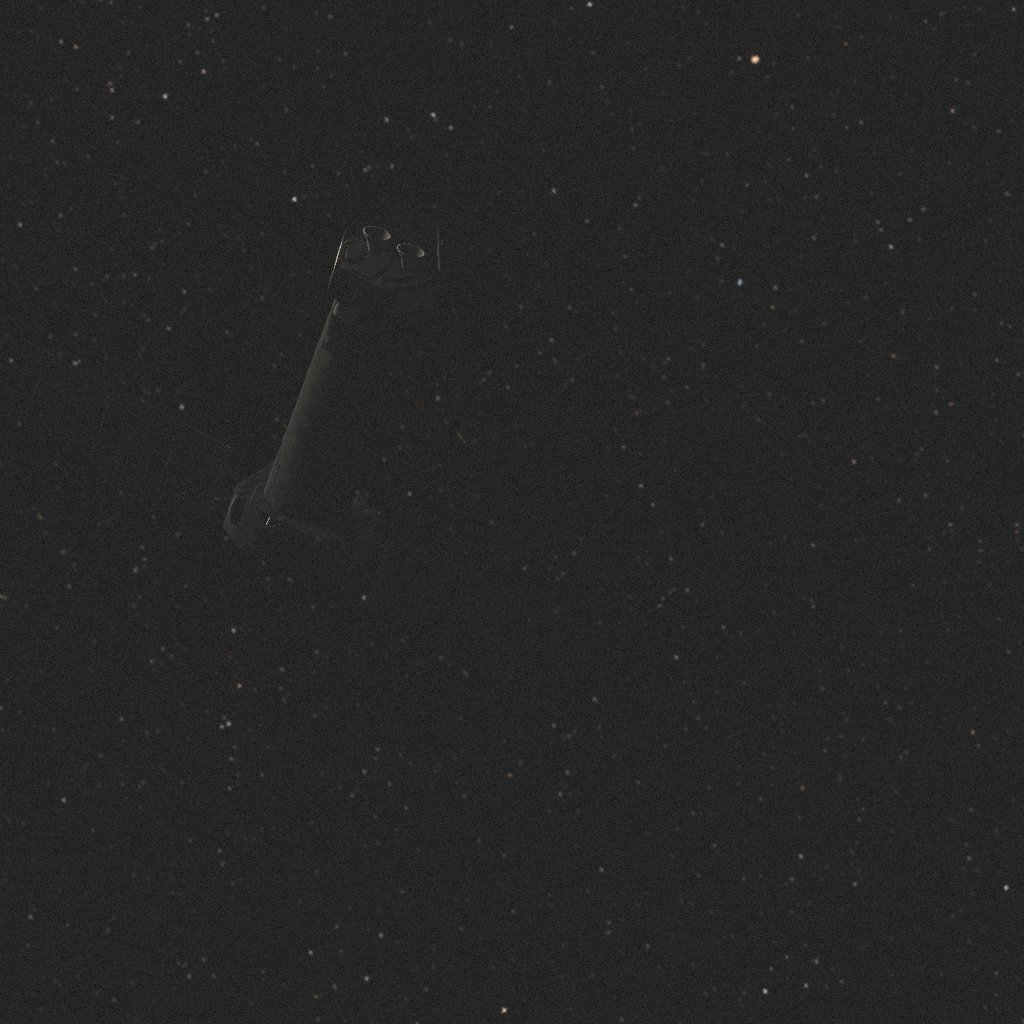xmm_newton: (0, 199, 604, 715)
